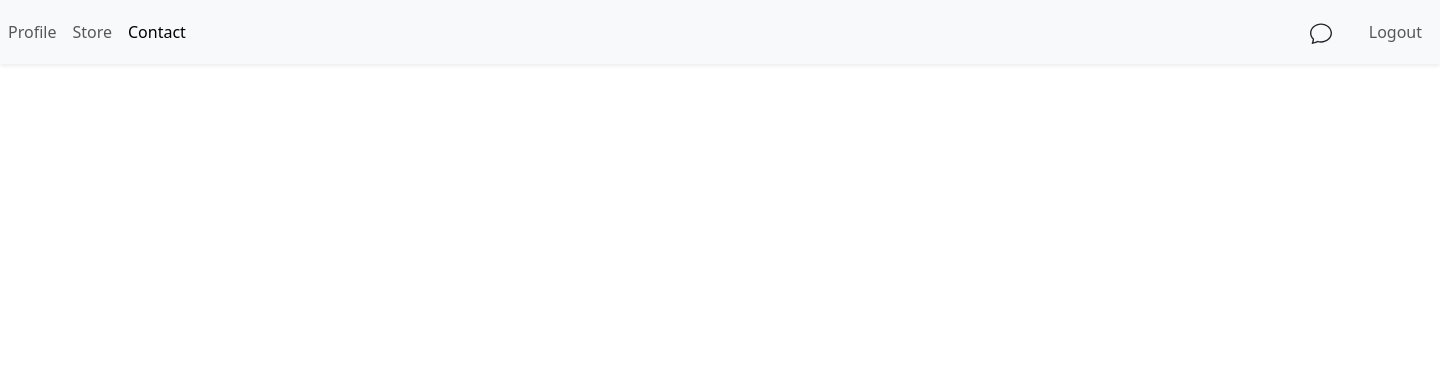
Test: Test navbar component › Should render chatbox component
The width and height of the screenshot is (1440, 380).
Click the button with test id "chat" at [1321, 32], box 1297,8 -> 1345,56
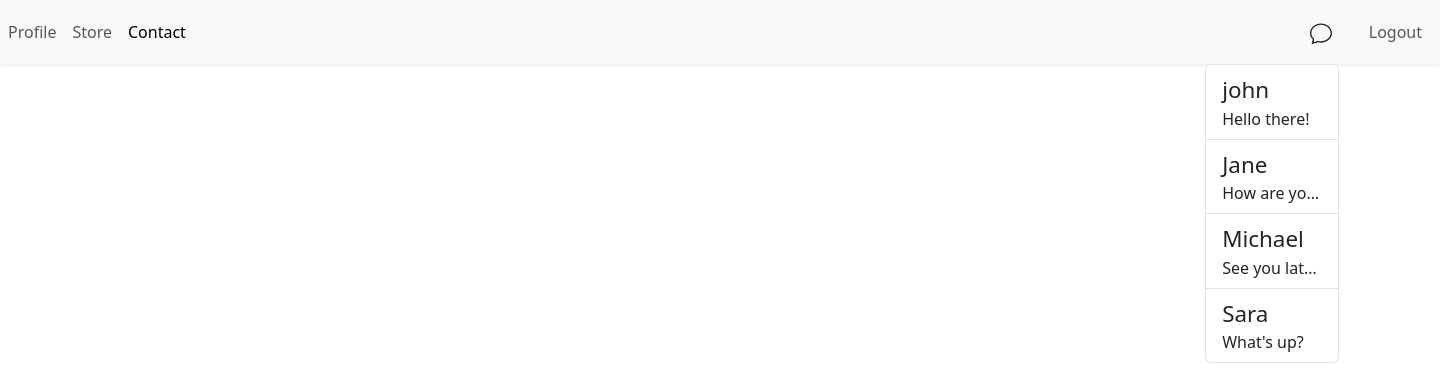
Now the element that starts with "john" is shown, box 1205,64 -> 1339,363
